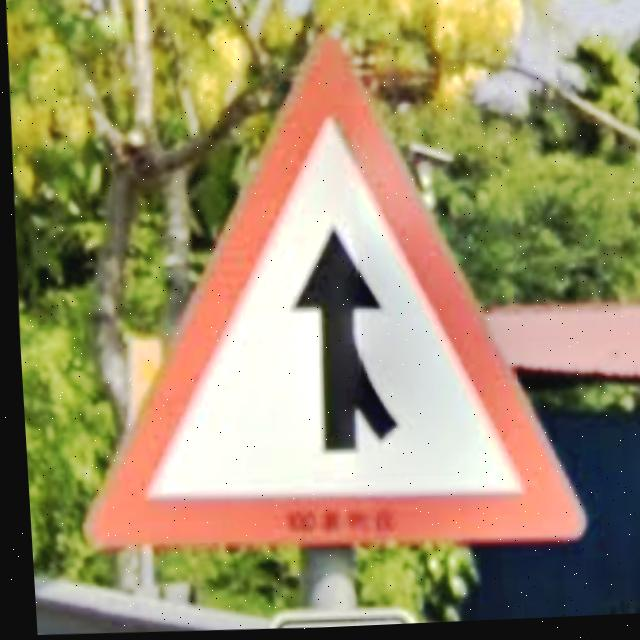rightmerge: (78, 38, 581, 547)
